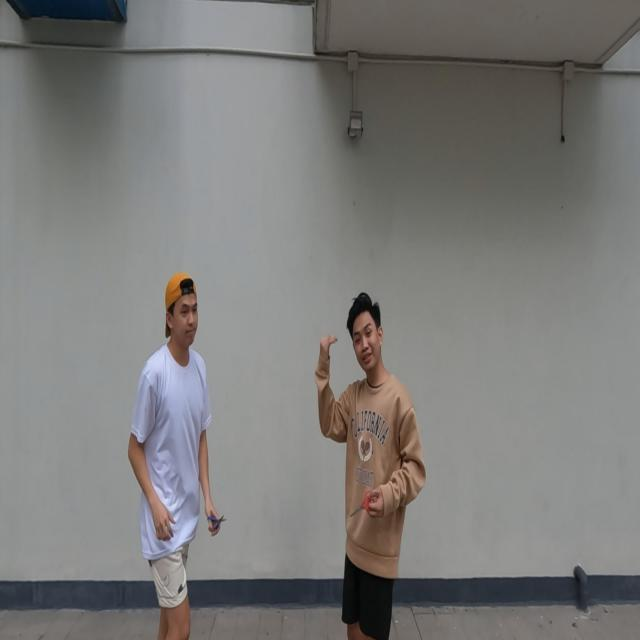scissor: (350, 486, 376, 521), (206, 513, 226, 531)
